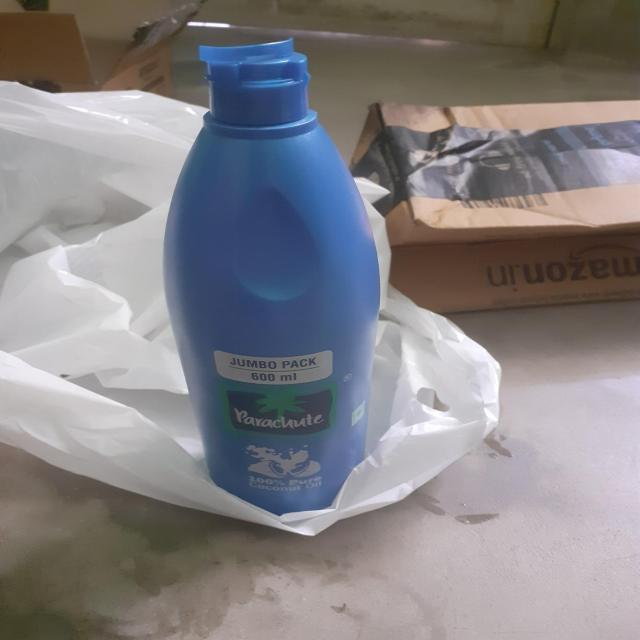parachute_oil: (156, 31, 398, 534)
